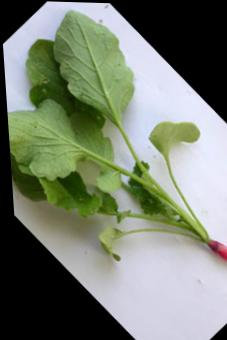organic: (26, 1, 159, 131), (5, 70, 104, 202), (142, 104, 209, 169)
